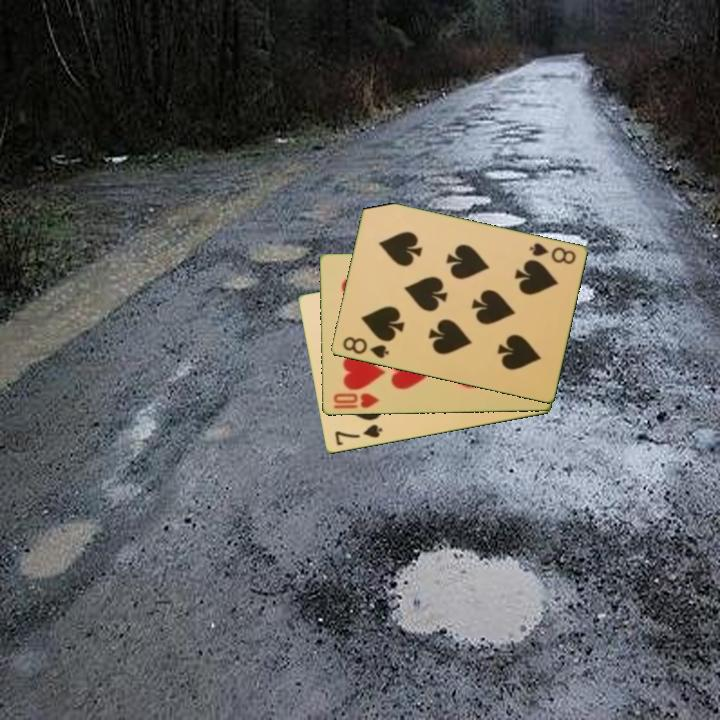10h: (329, 390, 382, 412)
7s: (331, 421, 385, 449)
8s: (339, 333, 392, 362), (525, 239, 578, 267)
